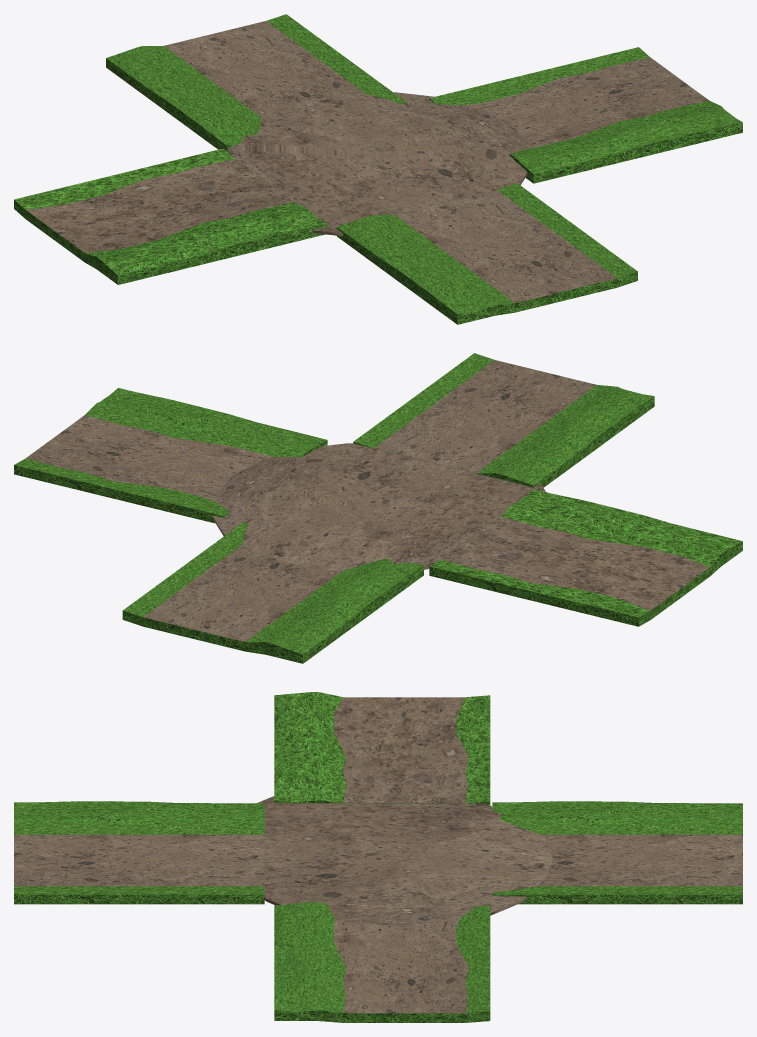
File: roundabout.fbx
3 renders of one model, top to bottom at view 1: azimuth 30°, elevation 25°; view 2: azimuth 150°, elevation 25°; view 3: azimuth 270°, elevation 25°, orthographic. The views are drawn at different scales.
Visible parts, largest first — view 1: pCylinder1, pCube1, pCube2, pCube4, pCube3; view 2: pCylinder1, pCube2, pCube1, pCube4, pCube3; view 3: pCylinder1, pCube1, pCube2, pCube4, pCube3.
Part boxes in pixels (bbox=[...]): pCylinder1: bbox=[228, 92, 529, 236]; pCube1: bbox=[336, 183, 637, 324]; pCube2: bbox=[14, 148, 327, 284]; pCube4: bbox=[429, 47, 742, 183]; pCube3: bbox=[106, 14, 406, 151]; pCylinder1: bbox=[212, 443, 545, 570]; pCube2: bbox=[429, 489, 742, 626]; pCube1: bbox=[353, 353, 654, 487]; pCube4: bbox=[14, 388, 327, 523]; pCube3: bbox=[122, 522, 423, 663]; pCylinder1: bbox=[257, 796, 552, 925]; pCube1: bbox=[14, 801, 264, 904]; pCube2: bbox=[274, 692, 490, 805]; pCube4: bbox=[274, 902, 490, 1022]; pCube3: bbox=[492, 801, 742, 904].
Bounding box in the file's own units: 69.85 × 2.35 × 68.09.
2 materials, 2 textured.
